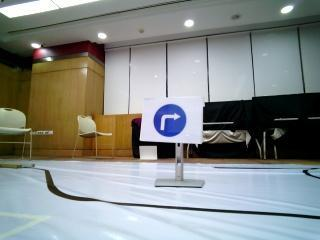right: (146, 100, 192, 139)
